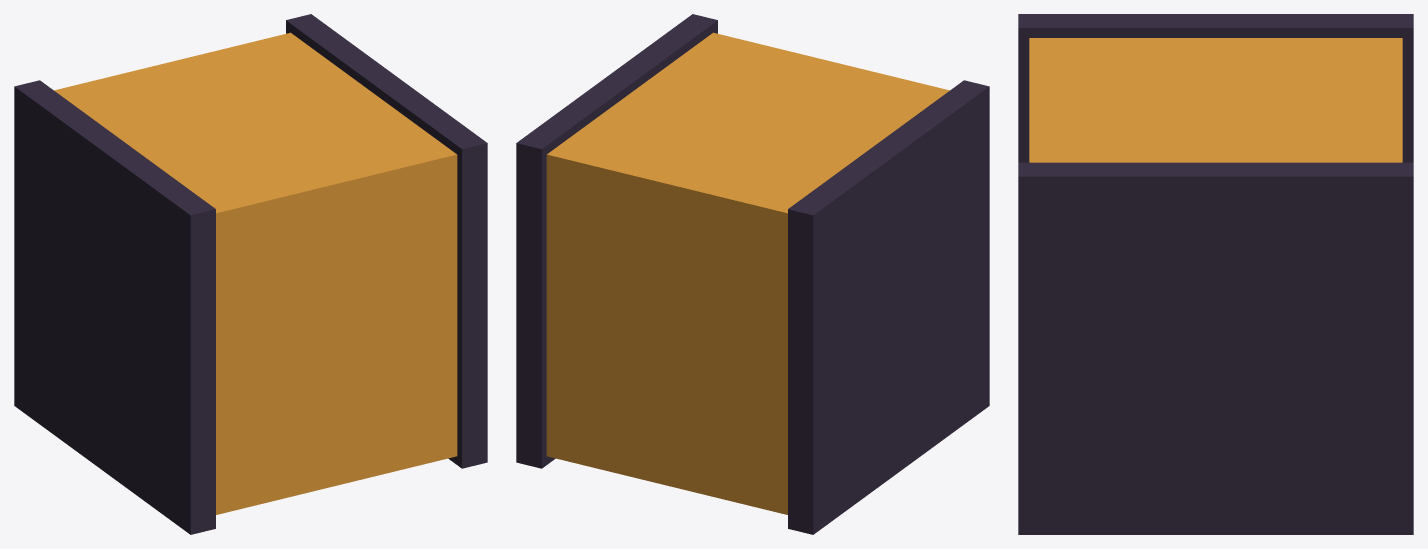
The model's file is crate.glb.
The picture shows the model from 3 angles, left to right: view 1: azimuth 30°, elevation 25°; view 2: azimuth 150°, elevation 25°; view 3: azimuth 270°, elevation 25°; orthographic projection. The views are drawn at different scales.
Parts seen in each view (by area): view 1: factory-crate; view 2: factory-crate; view 3: factory-crate.
Part boxes in pixels (left/top/right/bottom): factory-crate: left=14, top=14, right=487, bottom=534; factory-crate: left=516, top=14, right=989, bottom=534; factory-crate: left=1018, top=14, right=1413, bottom=534.
Bounding box in the file's own units: 0.35 × 0.36 × 0.36.
